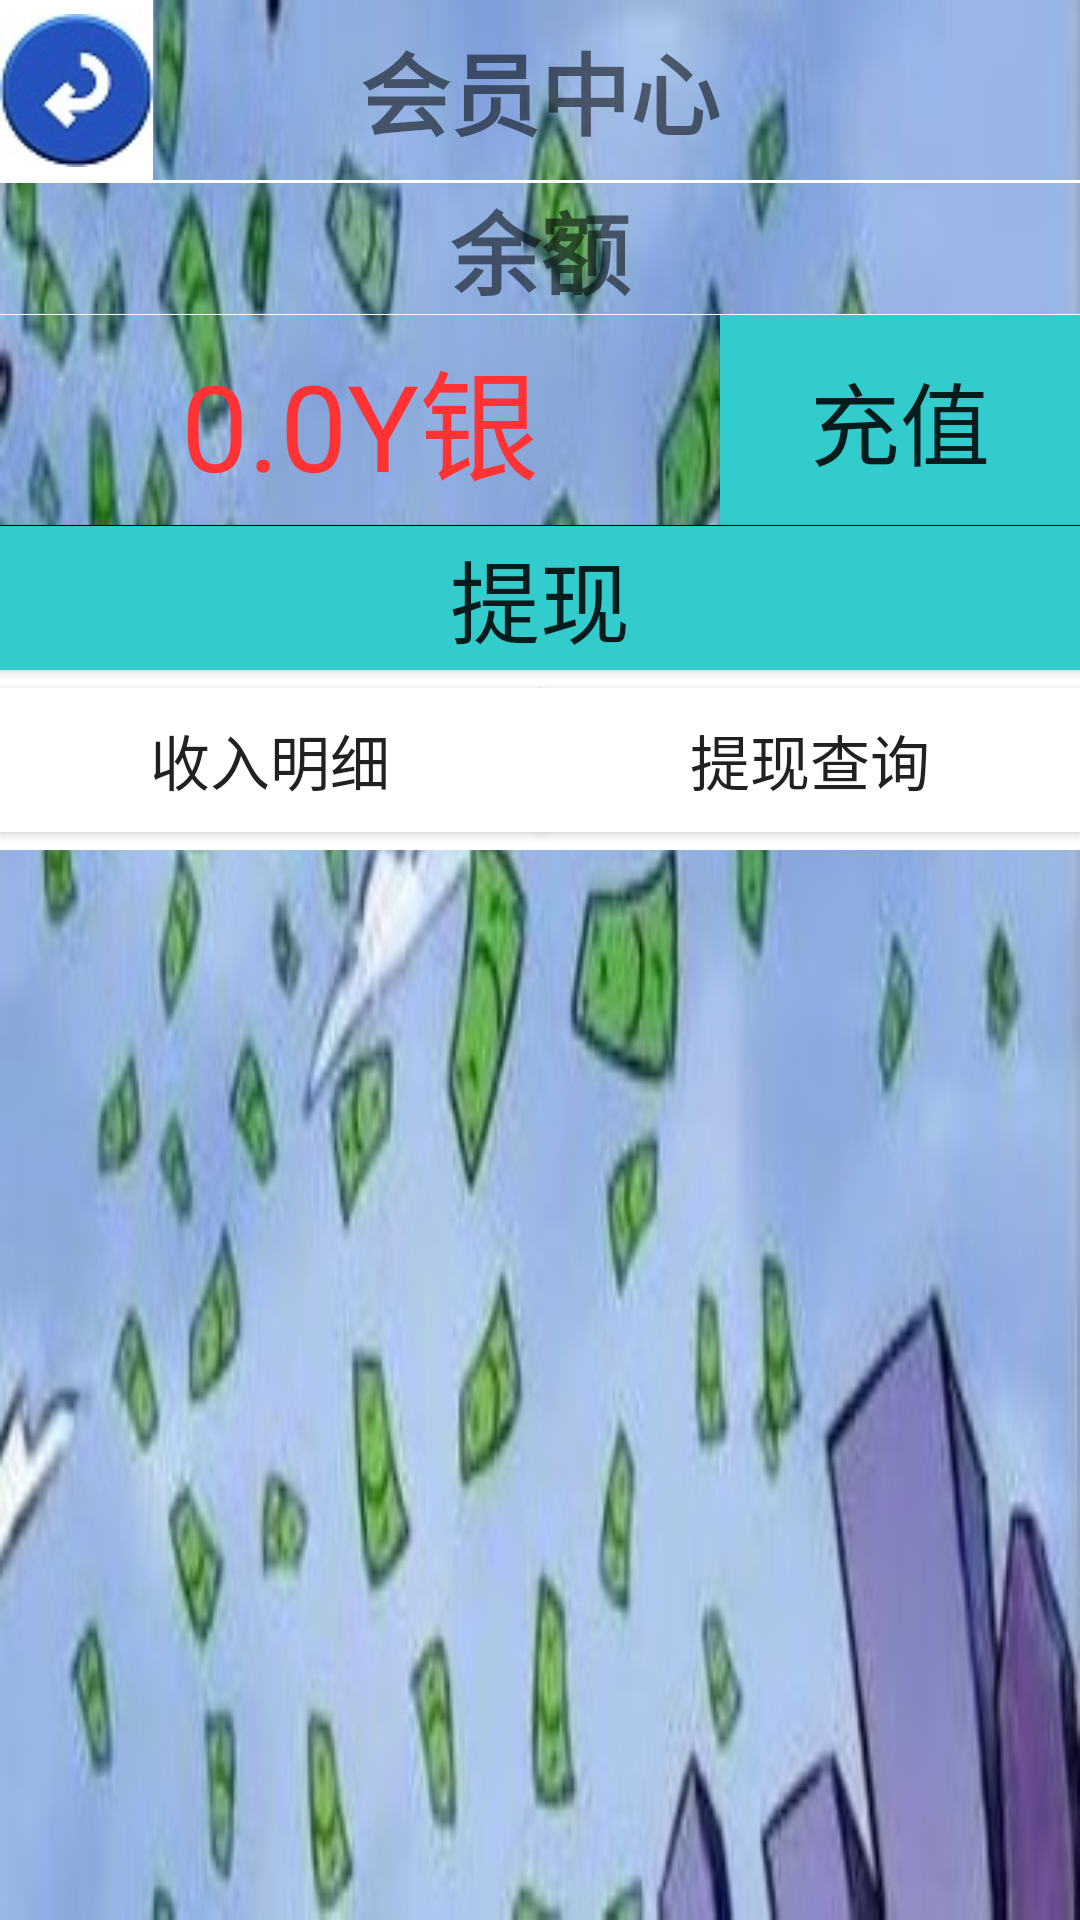

Where to tap for icons on this 1080px x 1920px app screen, as [x,y]:
fanhui: [76,90]
